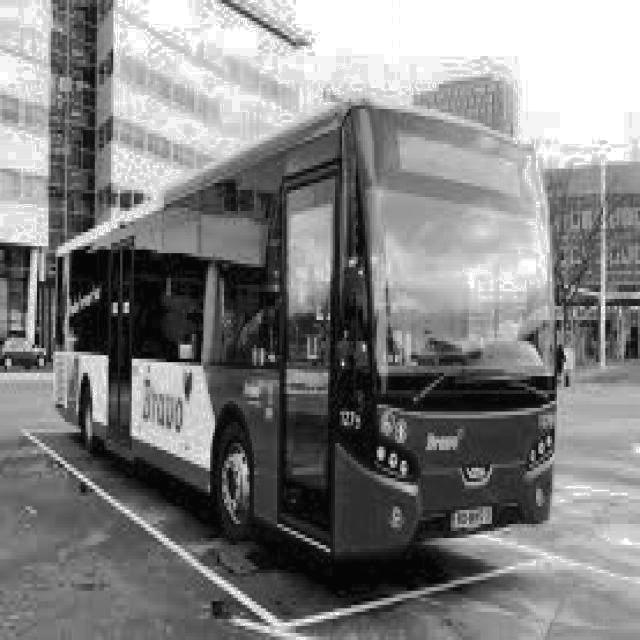Bus: (38, 67, 578, 596)
